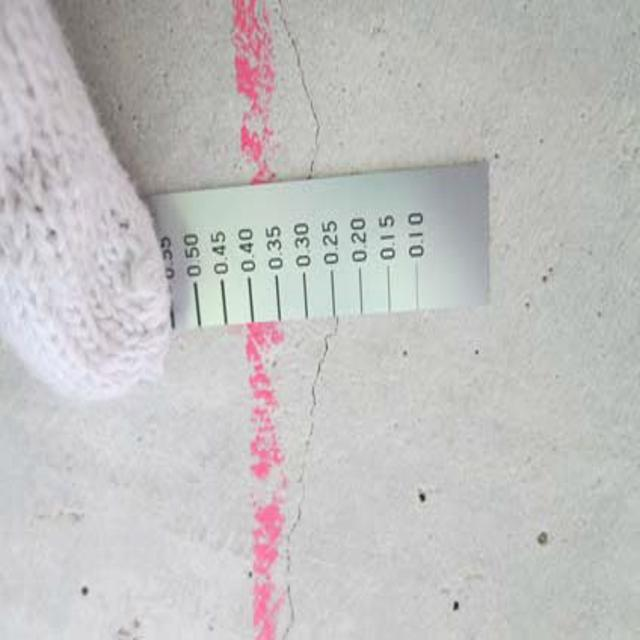crack: (277, 326, 349, 636), (273, 2, 328, 182)
